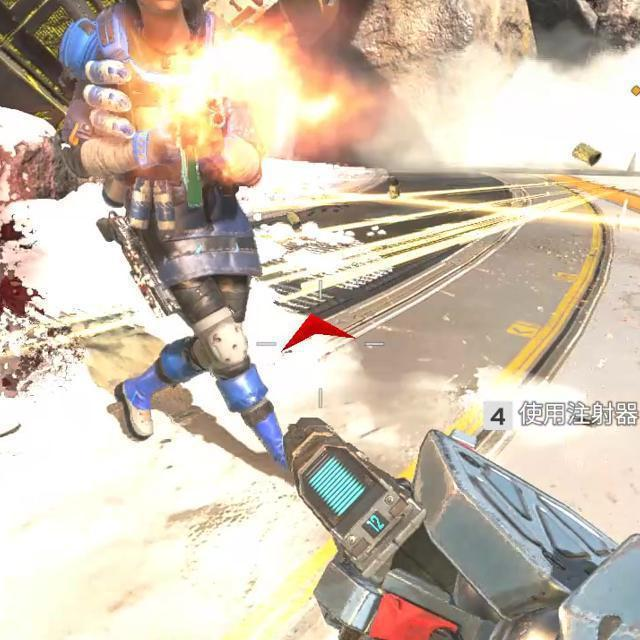avatar: (54, 0, 297, 469)
